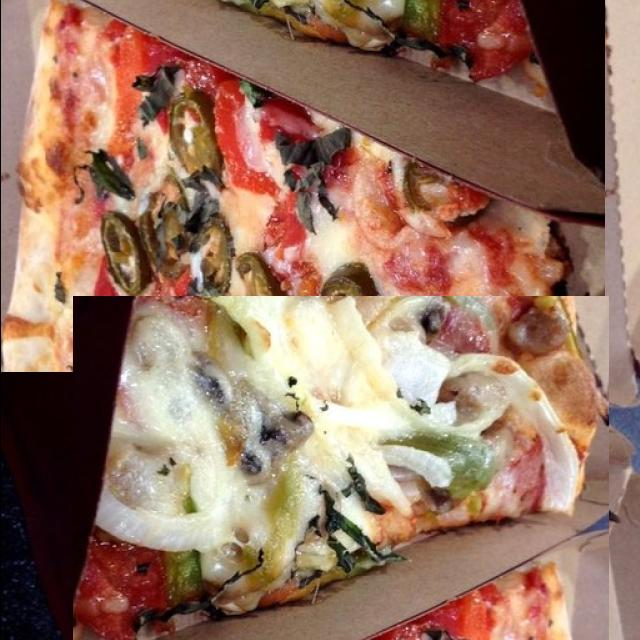pizza: (0, 0, 604, 372), (72, 296, 608, 640)
